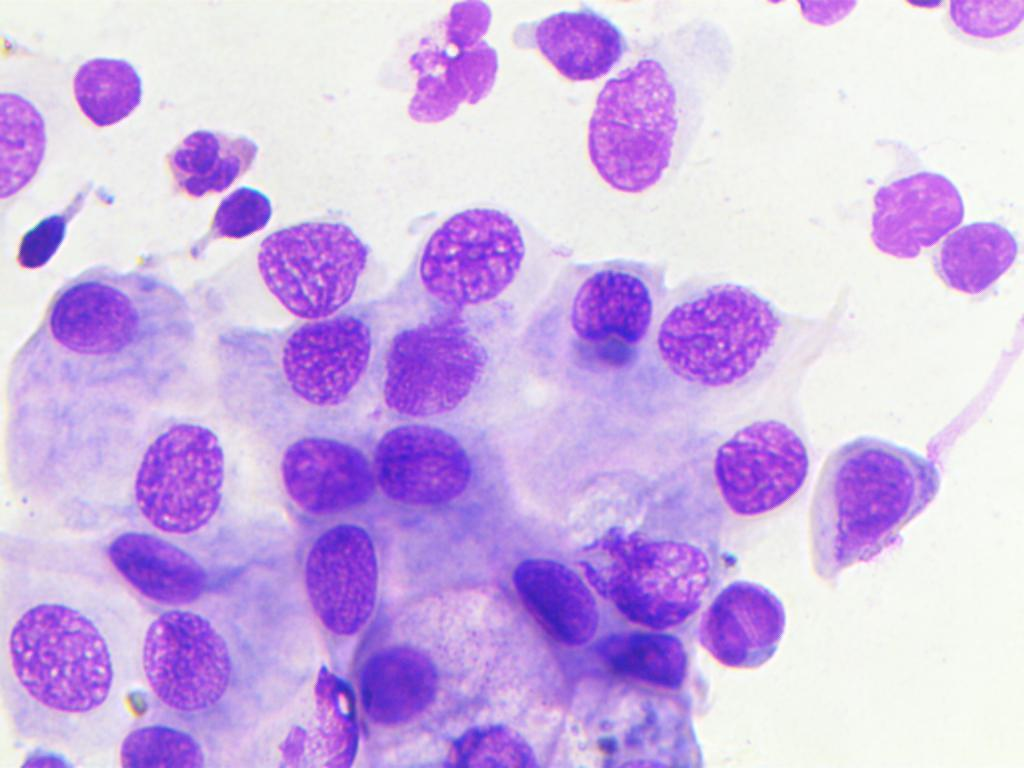artifact: (361, 2, 513, 141), (269, 661, 361, 768)
epithelial: (1, 267, 197, 431), (802, 418, 956, 589), (4, 582, 123, 729), (385, 196, 531, 304), (228, 311, 373, 419), (130, 608, 251, 730), (660, 279, 781, 391), (588, 59, 680, 202), (377, 311, 499, 417), (851, 154, 957, 273), (128, 423, 233, 536), (253, 215, 371, 313), (597, 522, 704, 627), (375, 418, 474, 515), (300, 525, 382, 641), (276, 420, 371, 520), (927, 205, 1019, 307), (104, 533, 220, 606), (356, 637, 452, 724), (67, 37, 143, 144), (0, 86, 60, 216), (436, 710, 545, 768), (530, 11, 618, 81), (111, 719, 213, 768)
goblet_cell: (612, 415, 810, 527), (412, 555, 597, 674), (550, 251, 660, 406), (584, 627, 701, 765)
lymphocyte: (698, 562, 797, 679)
metaplastic: (13, 192, 98, 284), (203, 182, 290, 241)
neutrophil: (159, 106, 258, 194)
